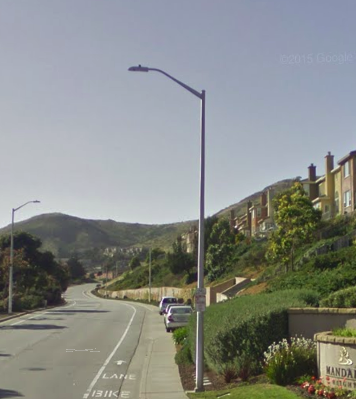pole: (120, 63, 214, 209)
